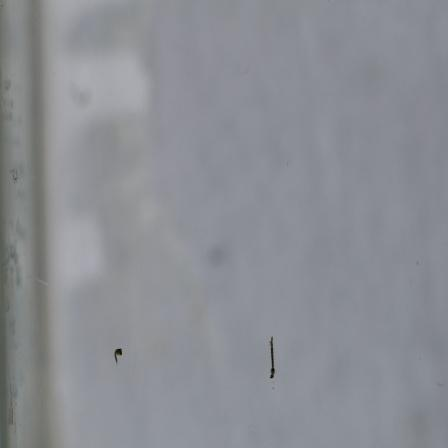Jentik-Nyamuk: (263, 333, 279, 384), (109, 344, 126, 366)
